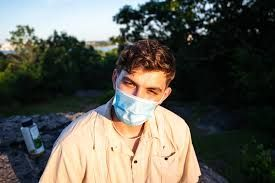with-mask: (110, 47, 171, 133)
